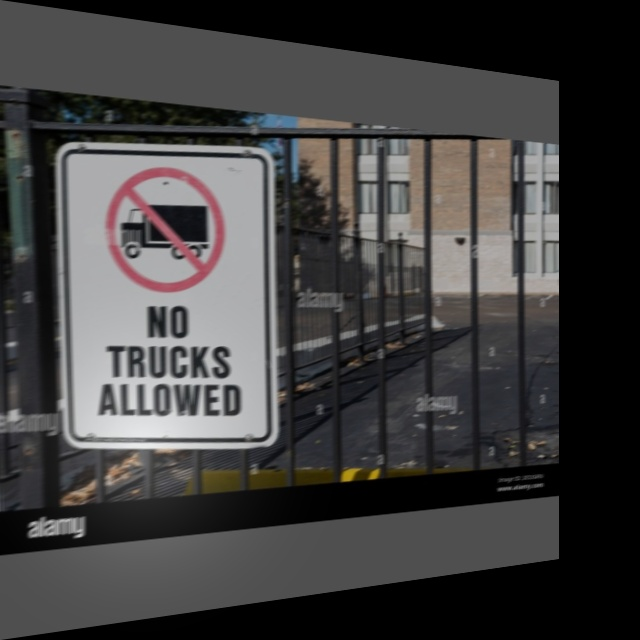Truck_Prohibited: (97, 151, 230, 302)
